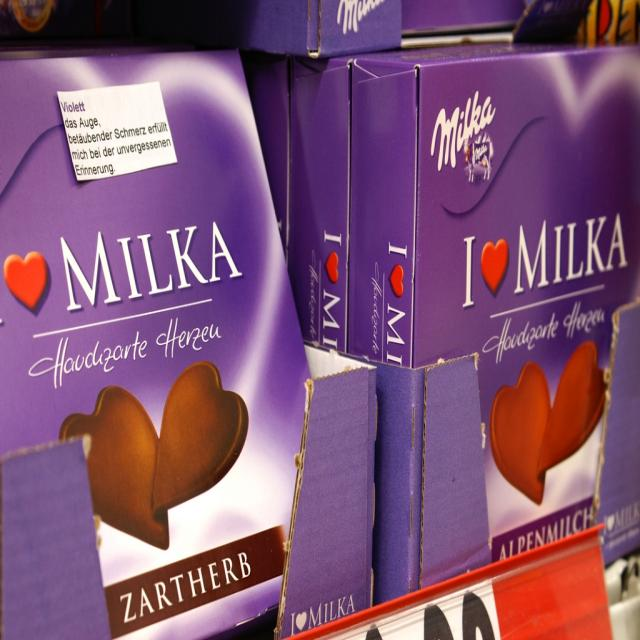milka: (431, 86, 500, 186), (333, 2, 408, 38)
